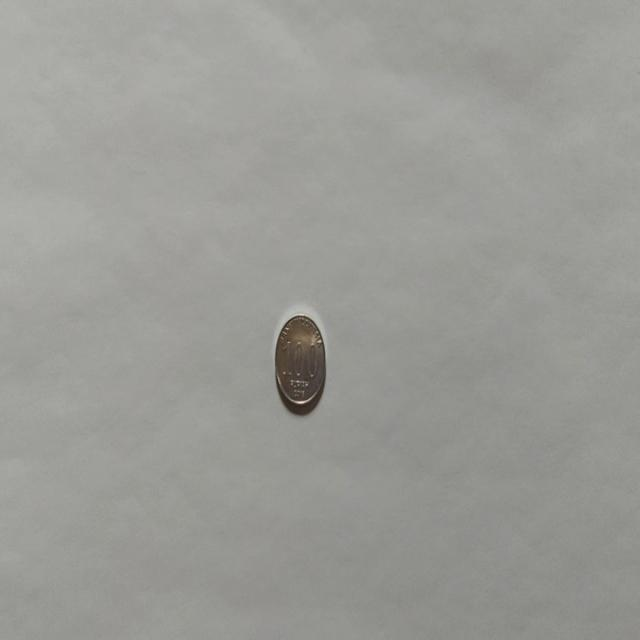seratus rupiah: (274, 311, 326, 413)
